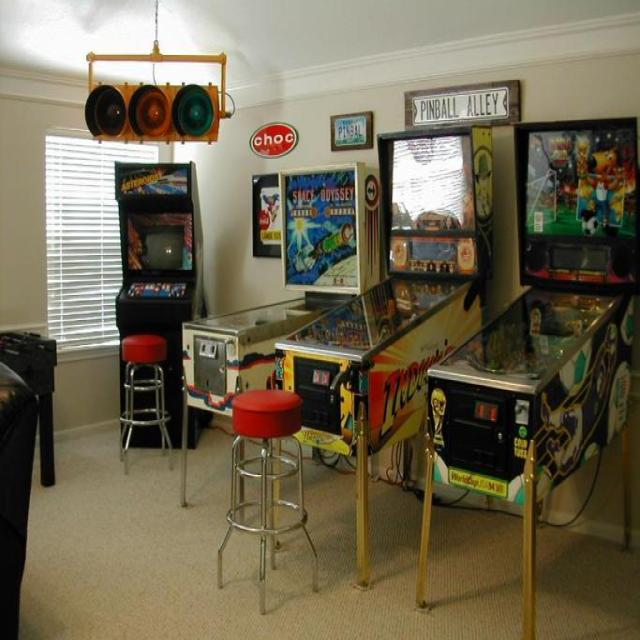rugs: (16, 418, 638, 638)
sofa: (0, 360, 38, 639)
table: (0, 329, 57, 486)
windows: (44, 132, 158, 354)
